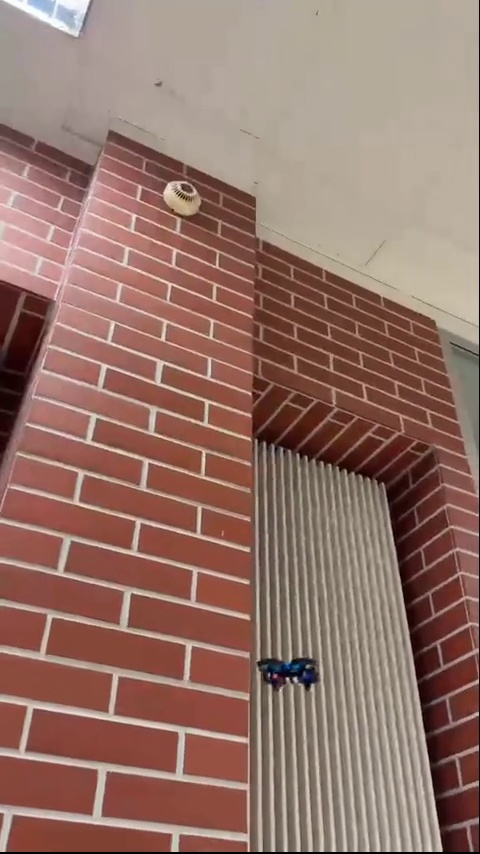drone: (253, 653, 317, 694)
